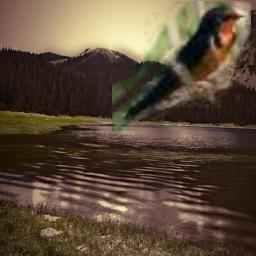Swallow: (112, 1, 251, 131)
